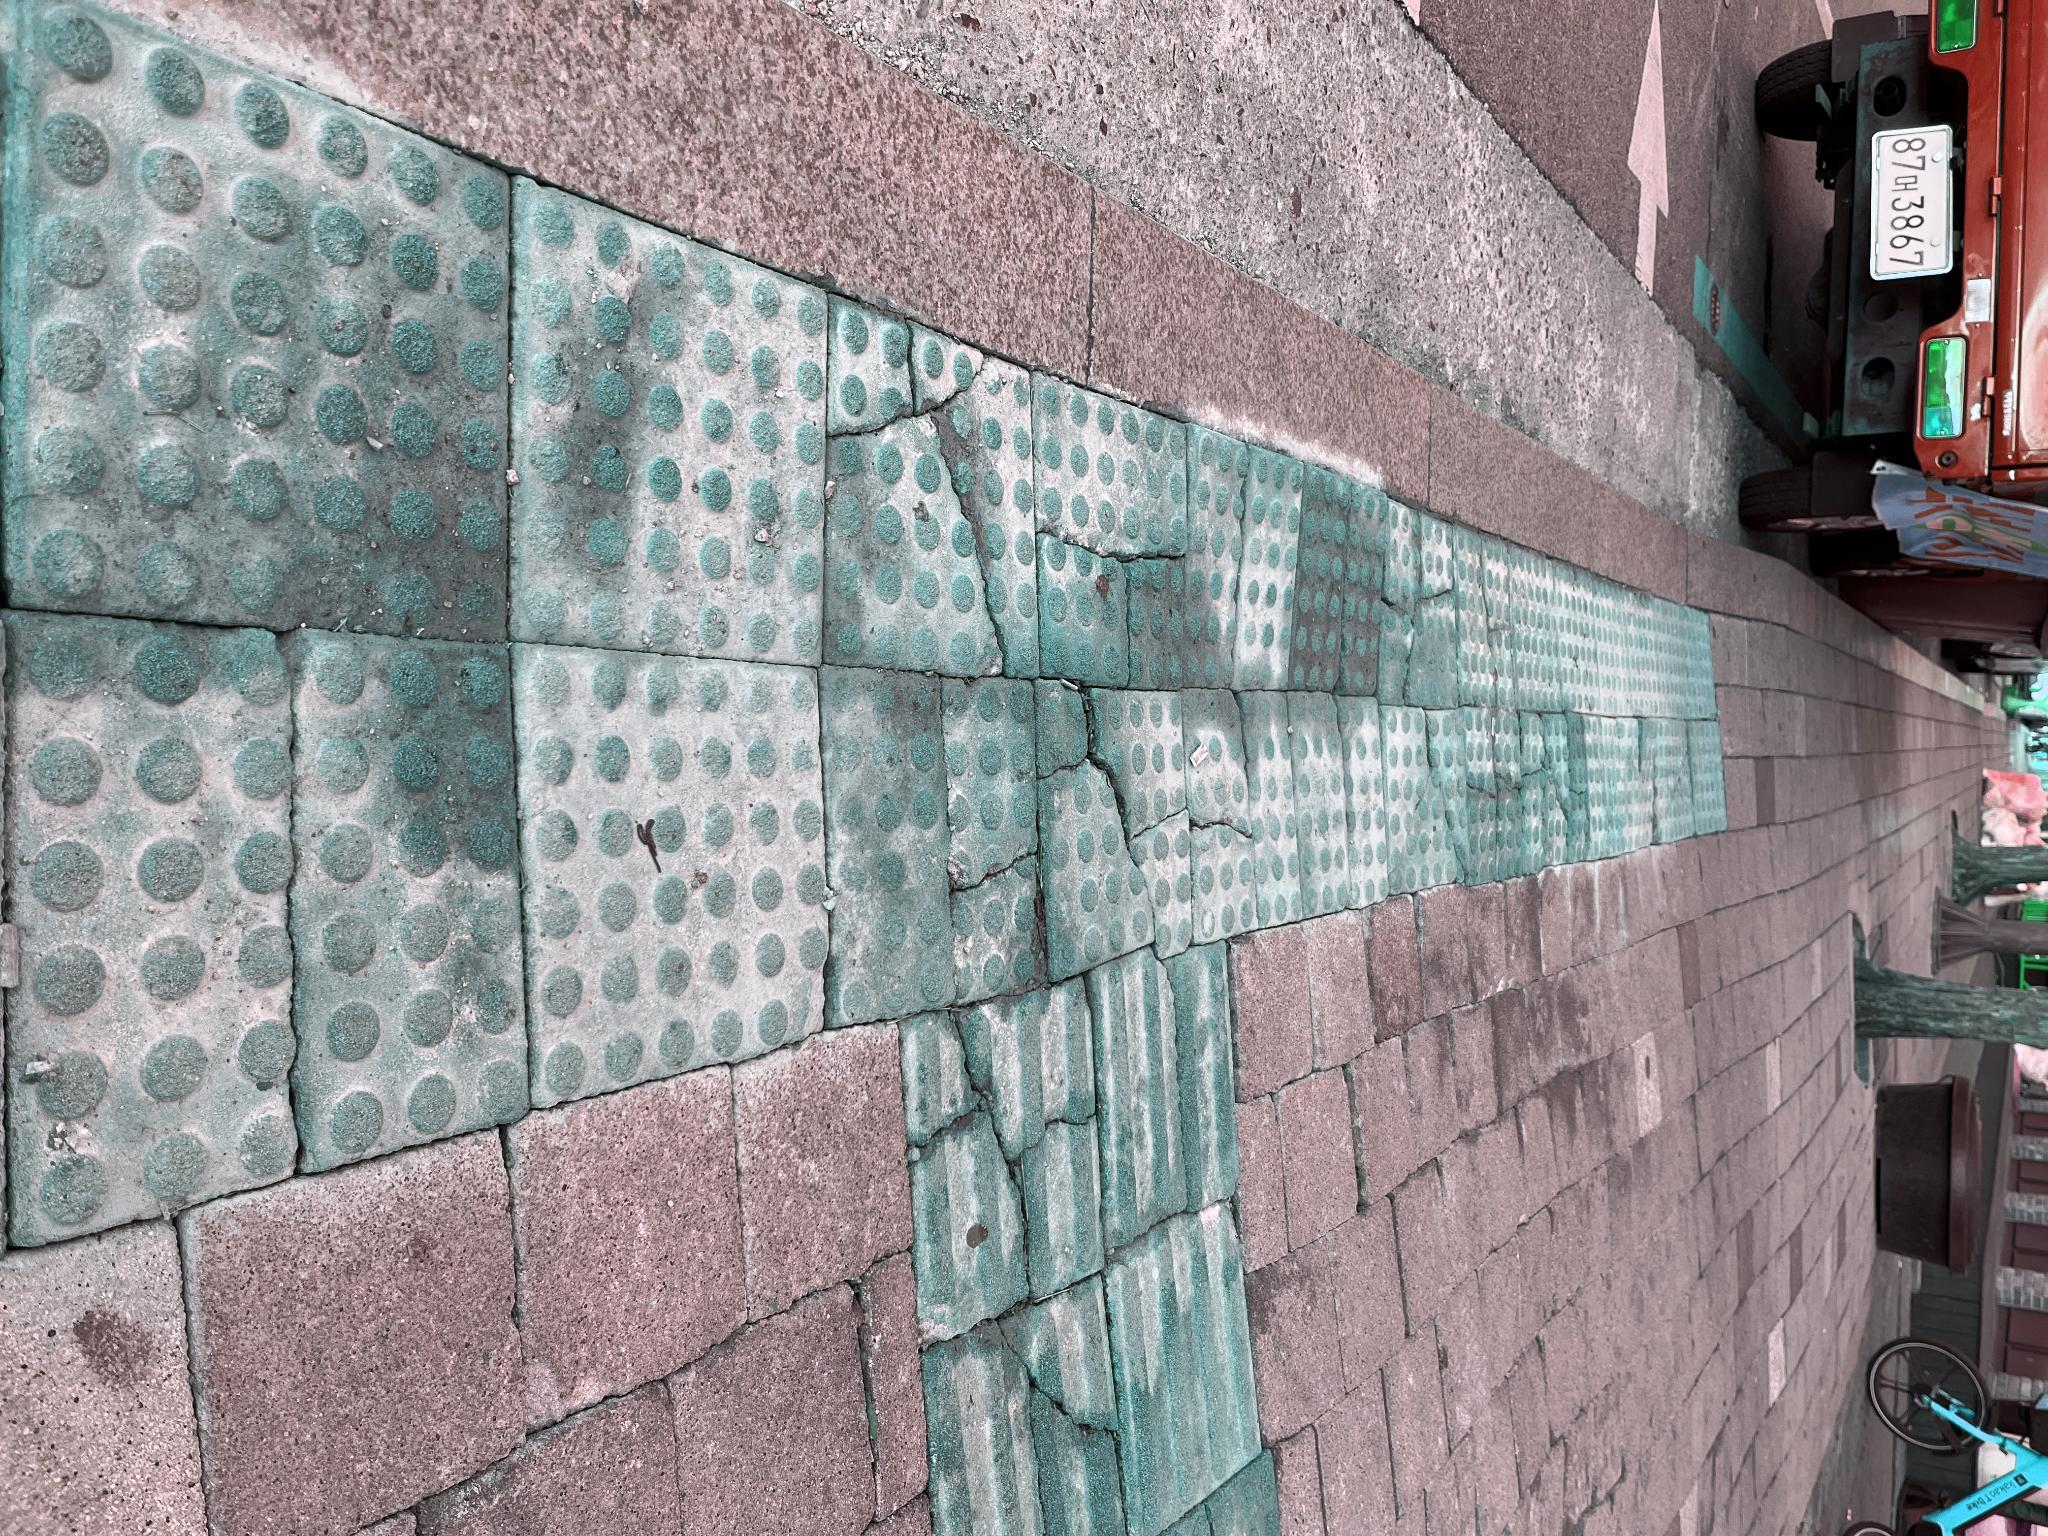Stop block broken: (295, 1013, 674, 1223), (669, 1007, 1021, 1228), (374, 866, 689, 1013), (682, 857, 979, 1010), (423, 745, 689, 863), (690, 747, 942, 865), (693, 660, 914, 758), (464, 663, 693, 757), (500, 592, 708, 668), (708, 582, 895, 666), (524, 534, 708, 594), (710, 524, 885, 584), (713, 479, 872, 528)
Stop block normal: (181, 1223, 663, 1533), (647, 1226, 1106, 1536), (547, 486, 711, 537)
Straight block broken: (982, 944, 1347, 1146), (943, 813, 1245, 957)
Straight block normal: (1203, 787, 1535, 937)
